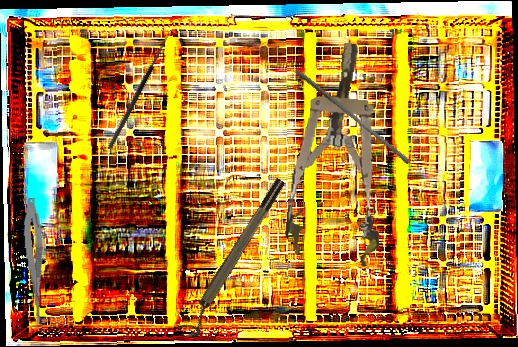Fixation Ring: (175, 176, 295, 341)
Hook Surgical: (101, 27, 173, 151)
Micro Scissor: (20, 197, 51, 332)
Pusher: (291, 68, 414, 165)
Speculum: (282, 38, 400, 268)
